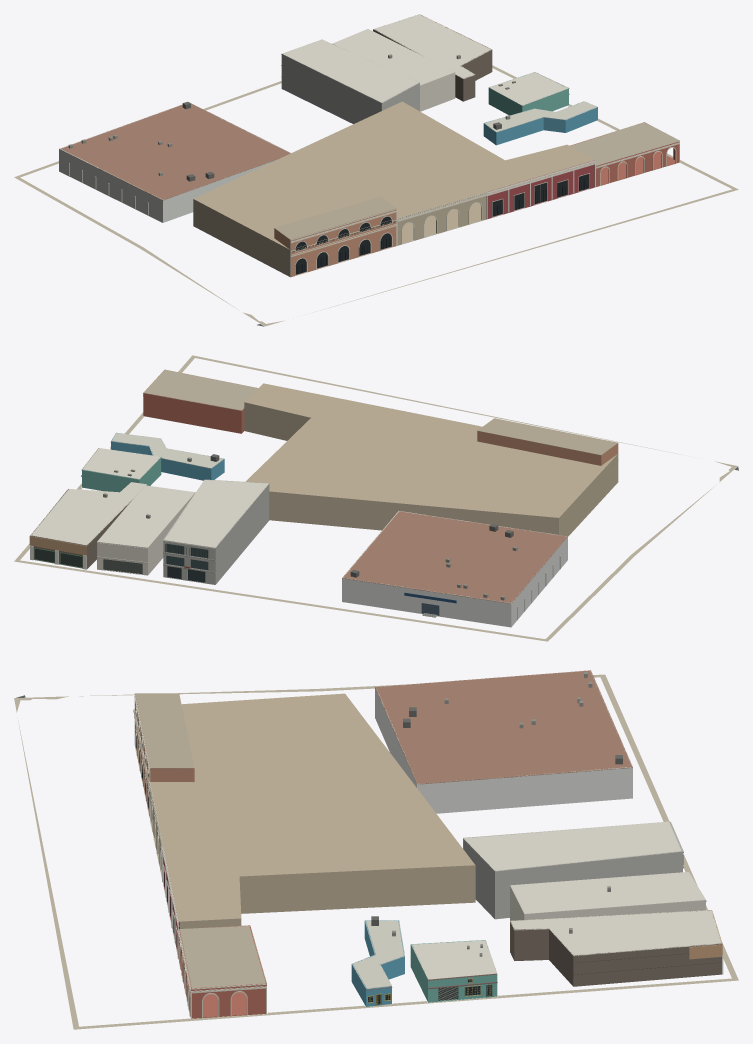
3 views of the same model, one above another, from view 1: azimuth 30°, elevation 25°; view 2: azimuth 150°, elevation 25°; view 3: azimuth 270°, elevation 25° (orthographic). The views are drawn at different scales.
Parts seen in each view (by area): view 1: edificio; view 2: edificio; view 3: edificio.
Part boxes in pixels (bbox=[...]): edificio: bbox=[14, 14, 738, 326]; edificio: bbox=[14, 355, 738, 641]; edificio: bbox=[14, 670, 738, 1029].
Bounding box in the file's own units: 152 × 10.29 × 131.
